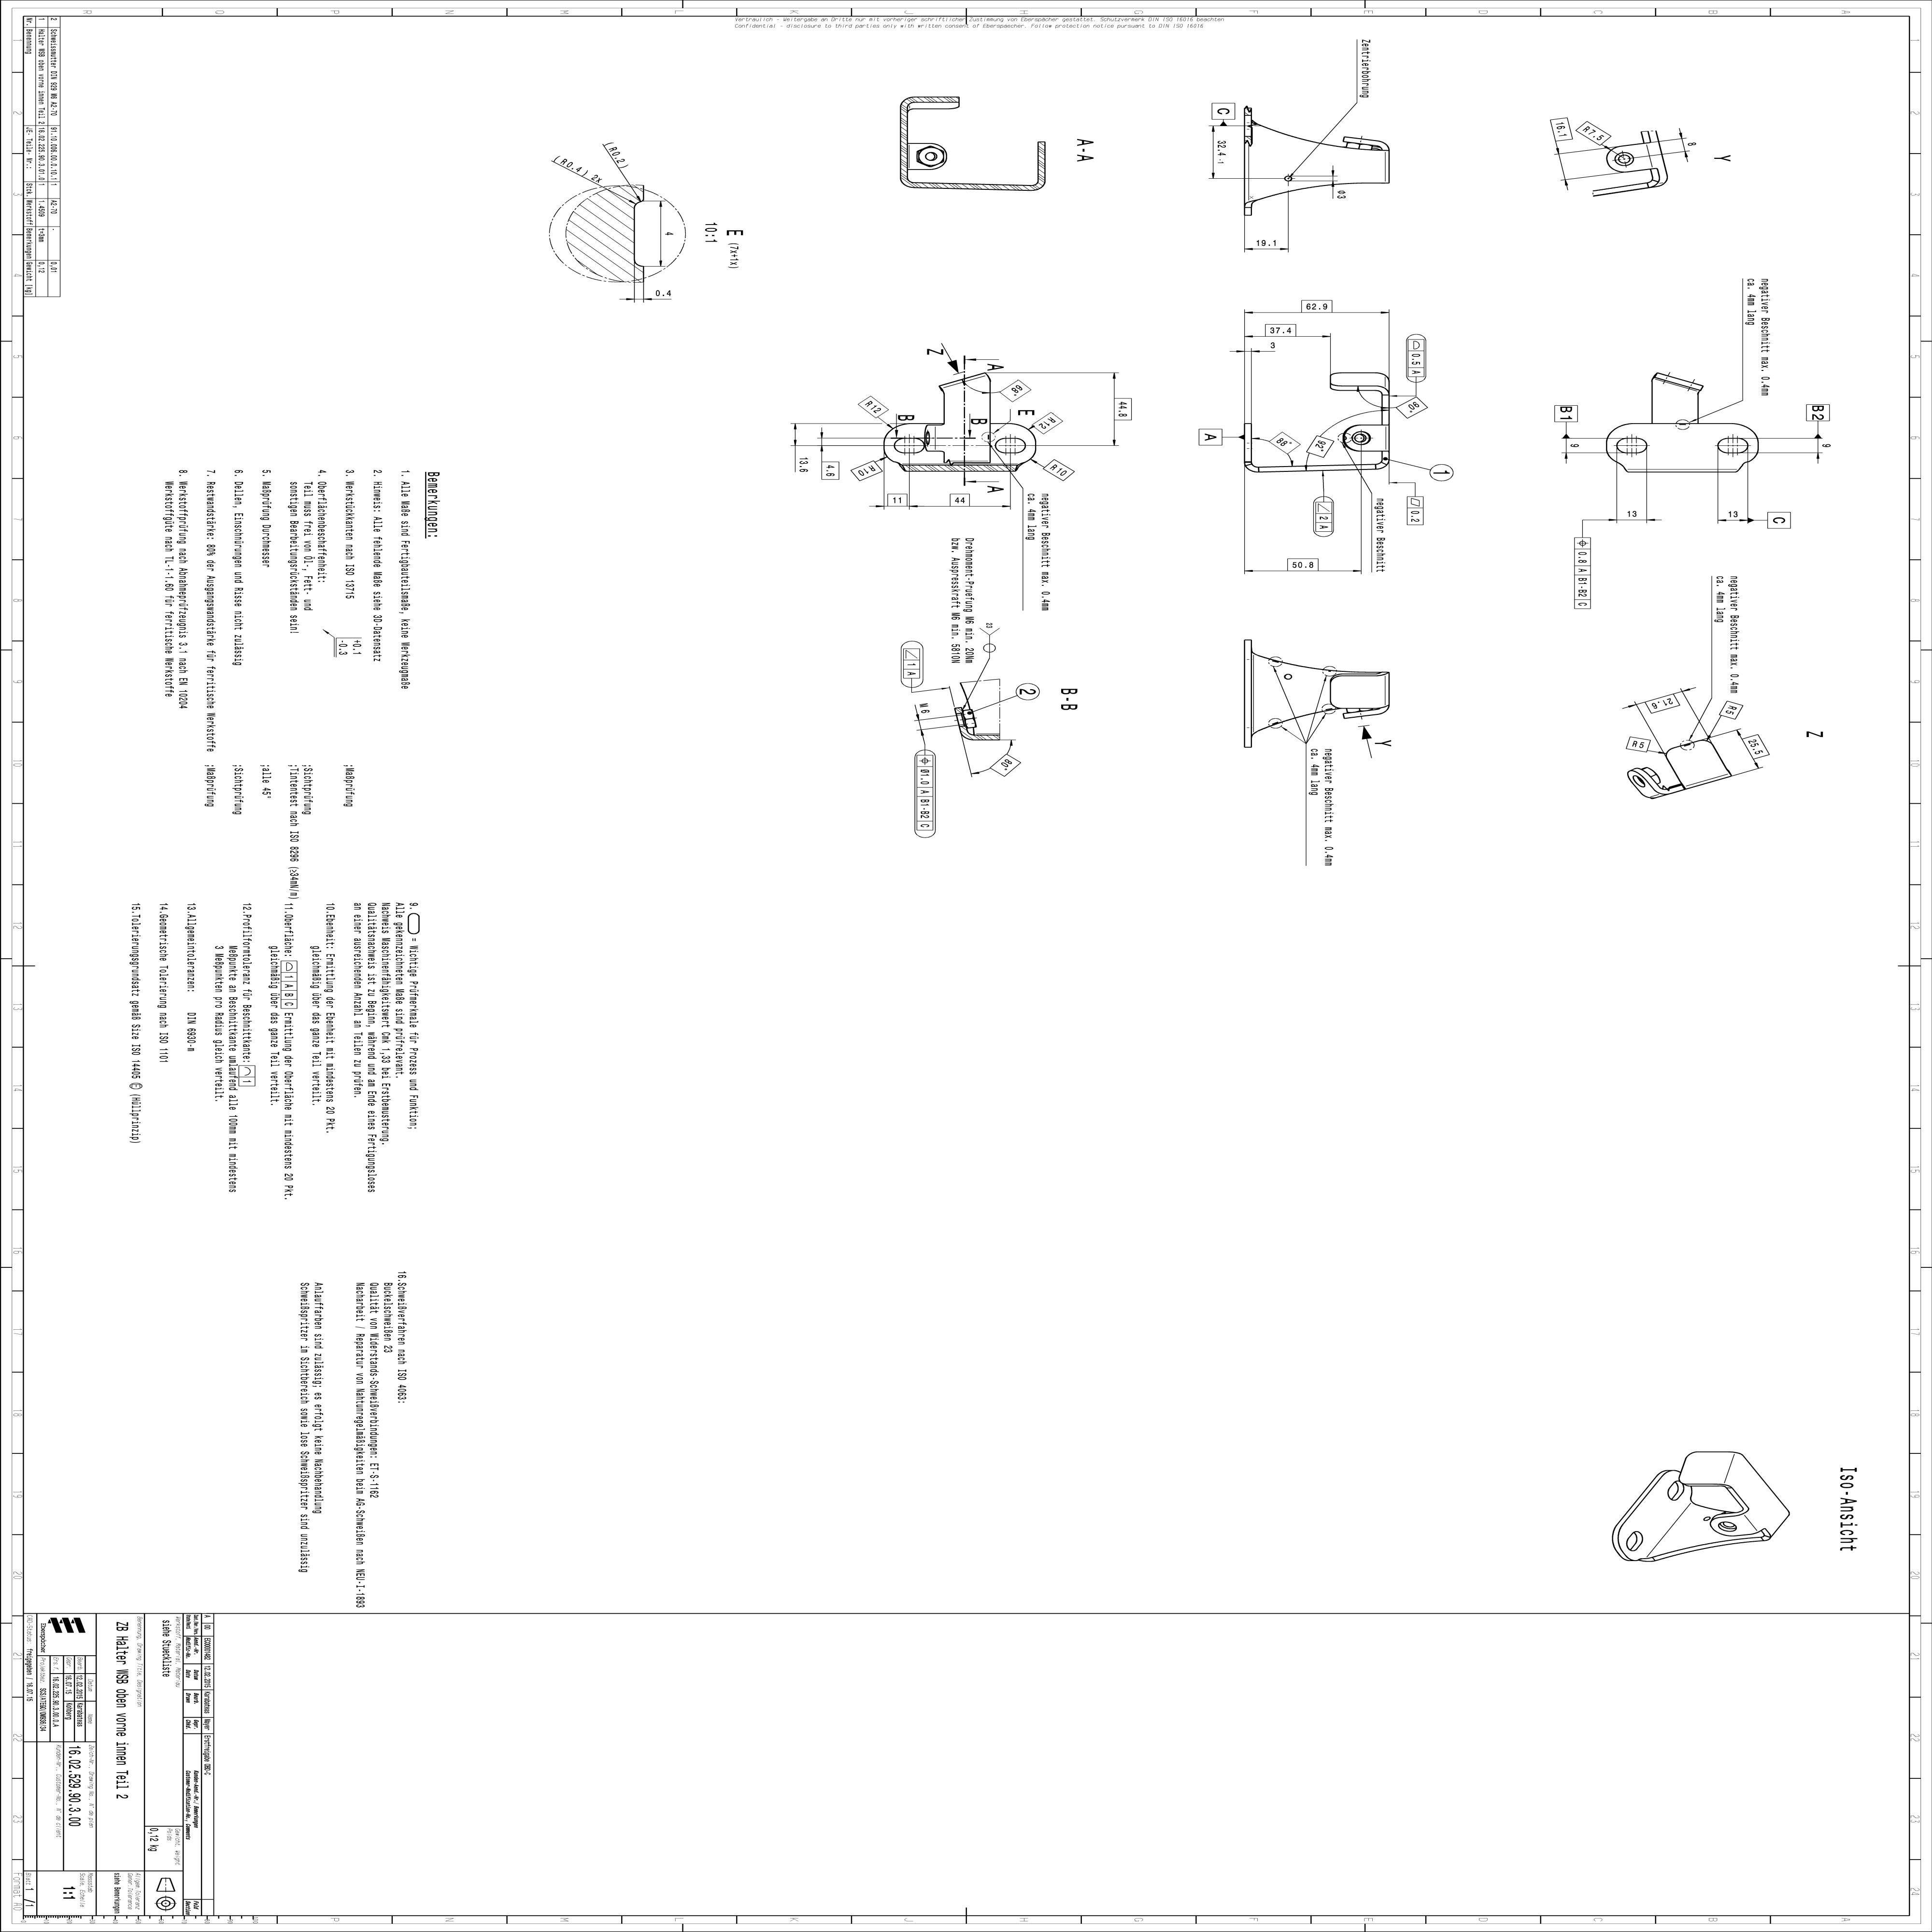BendingEdge: (1644, 177, 1661, 192)
BendingEdgeCurve: (1244, 462, 1262, 474), (1373, 461, 1386, 470)
InnerContour: (1615, 435, 1648, 455), (1716, 436, 1749, 456), (995, 436, 1026, 454), (893, 438, 924, 454), (1614, 151, 1634, 167), (1353, 429, 1370, 448)
